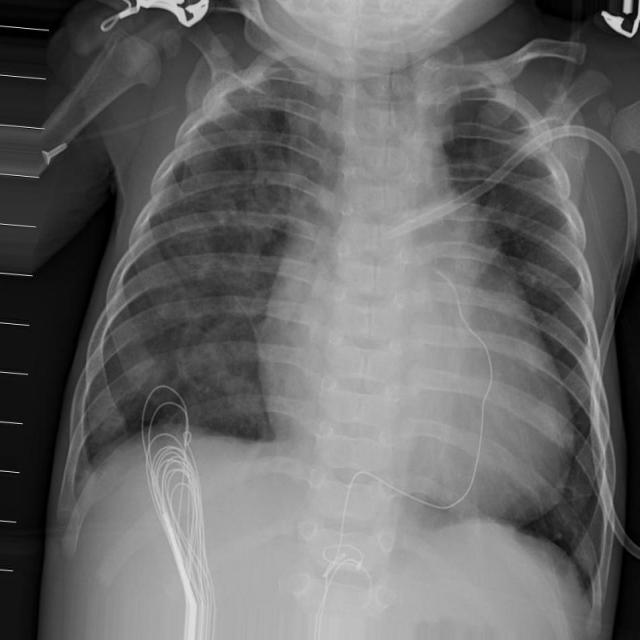bacterial_pneumonia: (0, 0, 640, 640), (2, 5, 639, 640)
